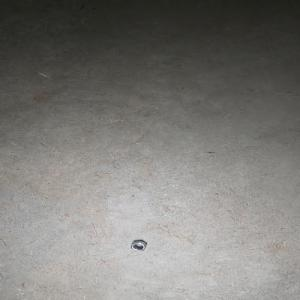Nut: (129, 239, 147, 250)
